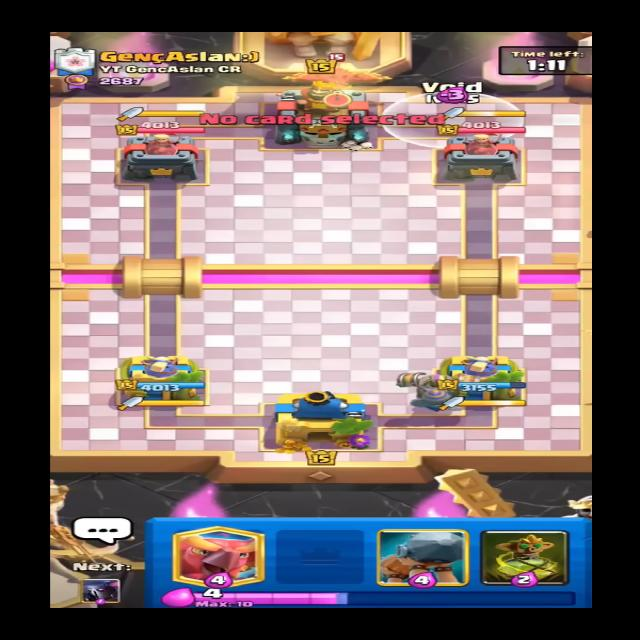phoenix: (277, 50, 399, 100)
